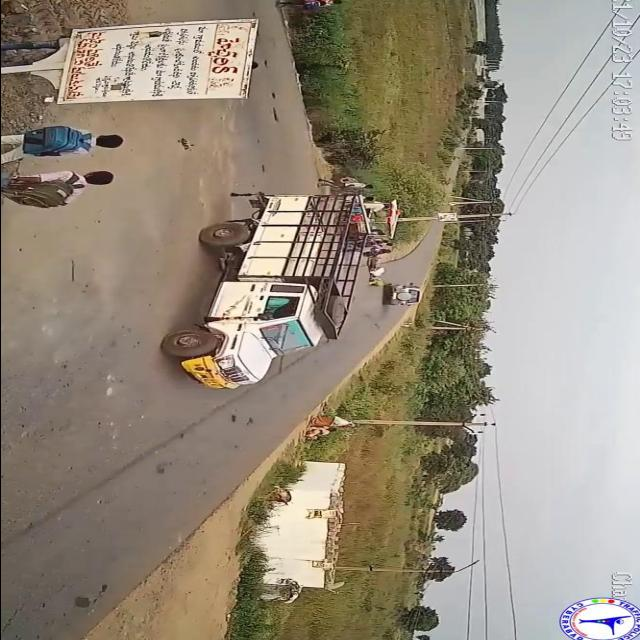accident: (360, 253, 424, 311)
